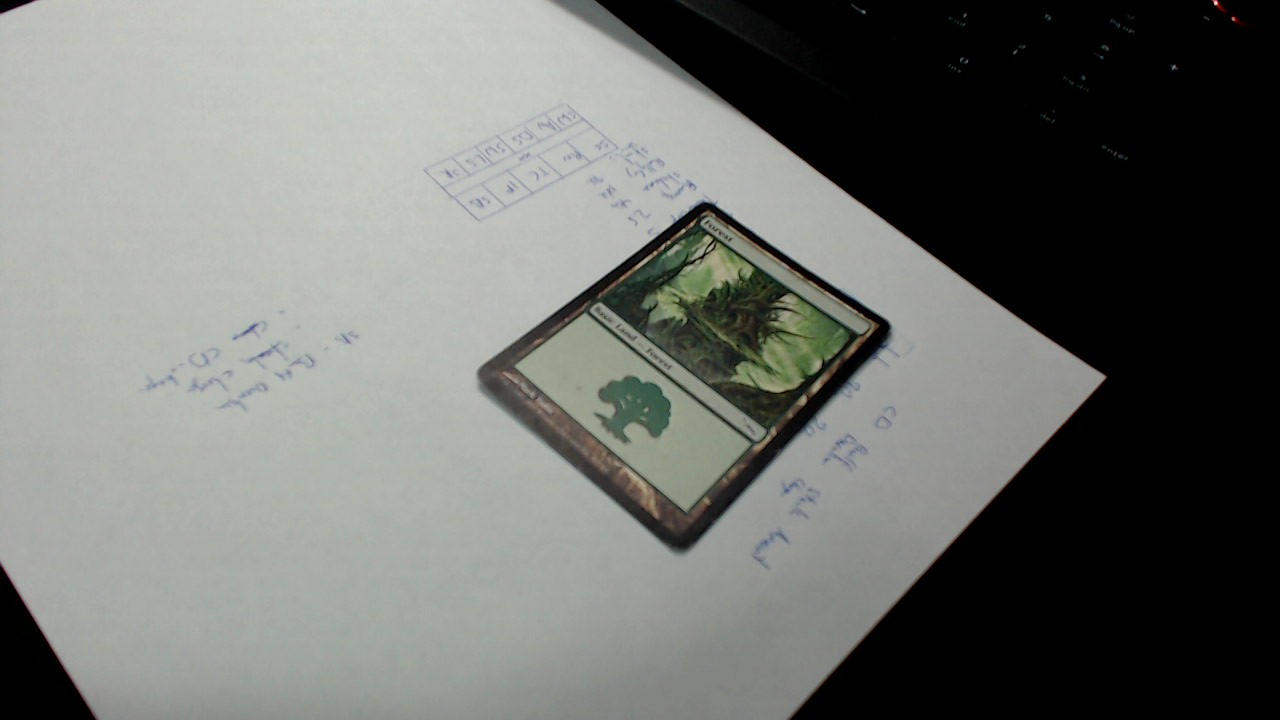MTG Card: (470, 192, 901, 559)
